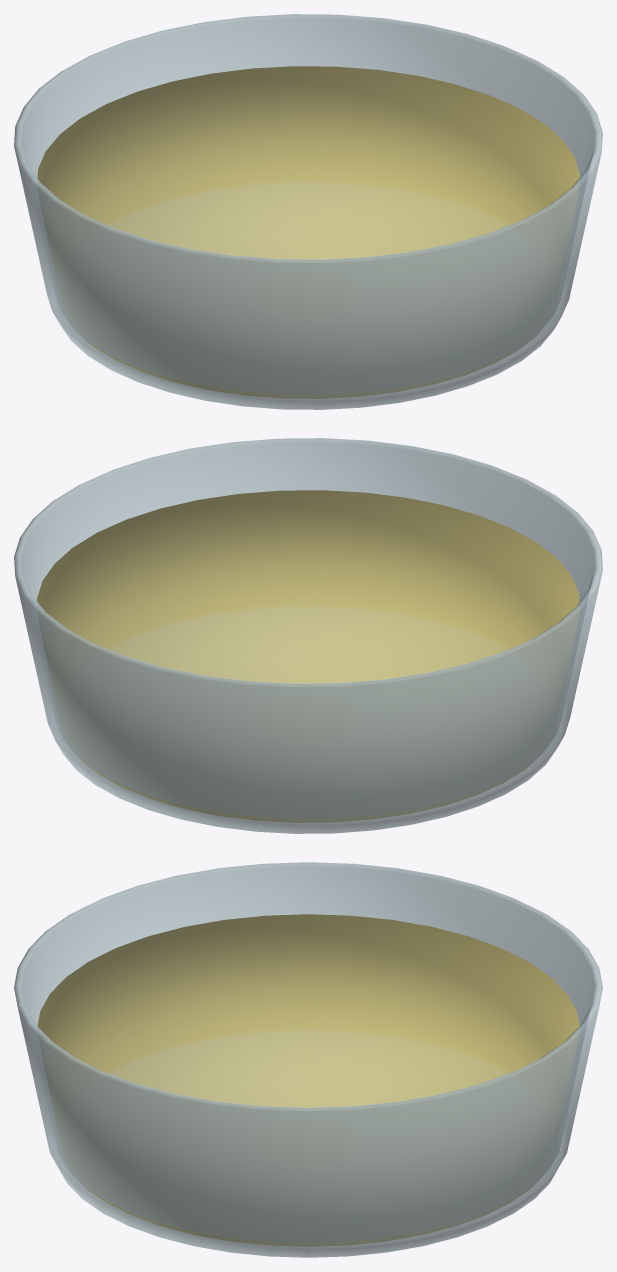
Rendered from limoglas.glb.
3 renders of one model, top to bottom at view 1: azimuth 30°, elevation 25°; view 2: azimuth 150°, elevation 25°; view 3: azimuth 270°, elevation 25°, orthographic.
Parts seen in each view (by area): view 1: limoglas-glas; view 2: limoglas-glas; view 3: limoglas-glas.
Part boxes in pixels (x1,y1,x2,y2): limoglas-glas: (14, 14, 602, 409); limoglas-glas: (14, 438, 602, 833); limoglas-glas: (14, 862, 602, 1257).
Bounding box in the file's own units: 3.6 × 1.12 × 3.6.
